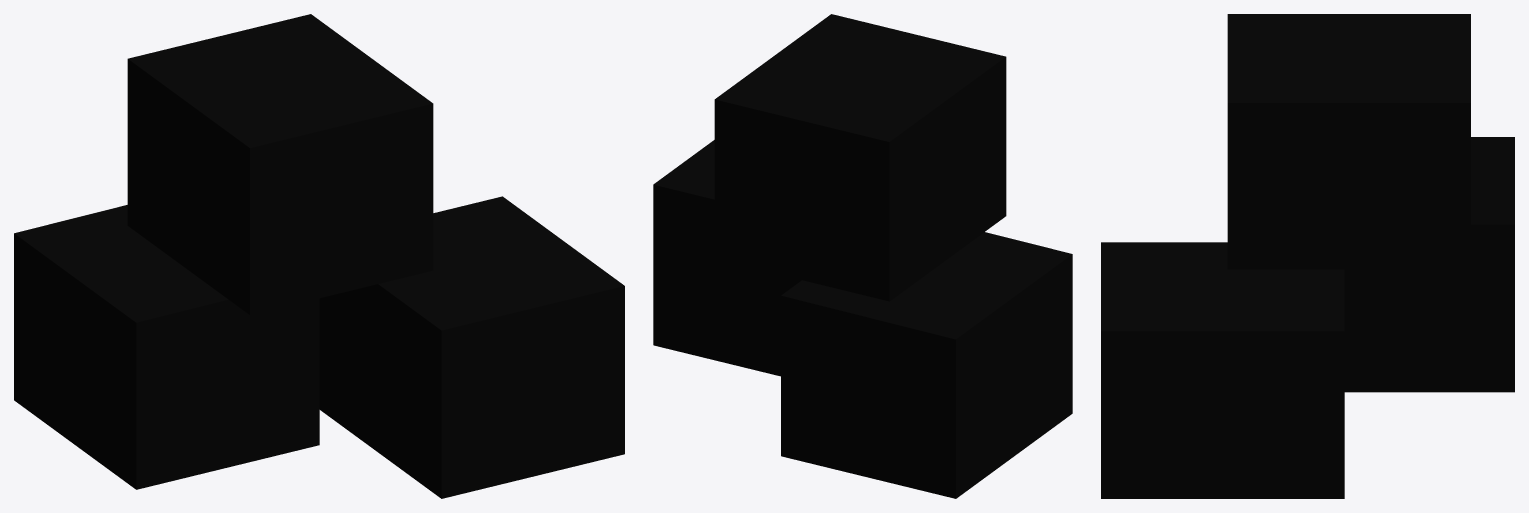
Rendered from cubes.glb.
3 views of the same model, side by side, from view 1: azimuth 30°, elevation 25°; view 2: azimuth 150°, elevation 25°; view 3: azimuth 270°, elevation 25° (orthographic). The views are drawn at different scales.
Parts seen in each view (by area): view 1: cubes; view 2: cubes; view 3: cubes.
Part boxes in pixels (box(x1,y1,x2,y2)): cubes: box(14, 14, 624, 498); cubes: box(653, 14, 1072, 498); cubes: box(1101, 14, 1514, 498).
Bounding box in the file's own units: 55.32 × 44 × 49.45.
1 material, 1 textured.
